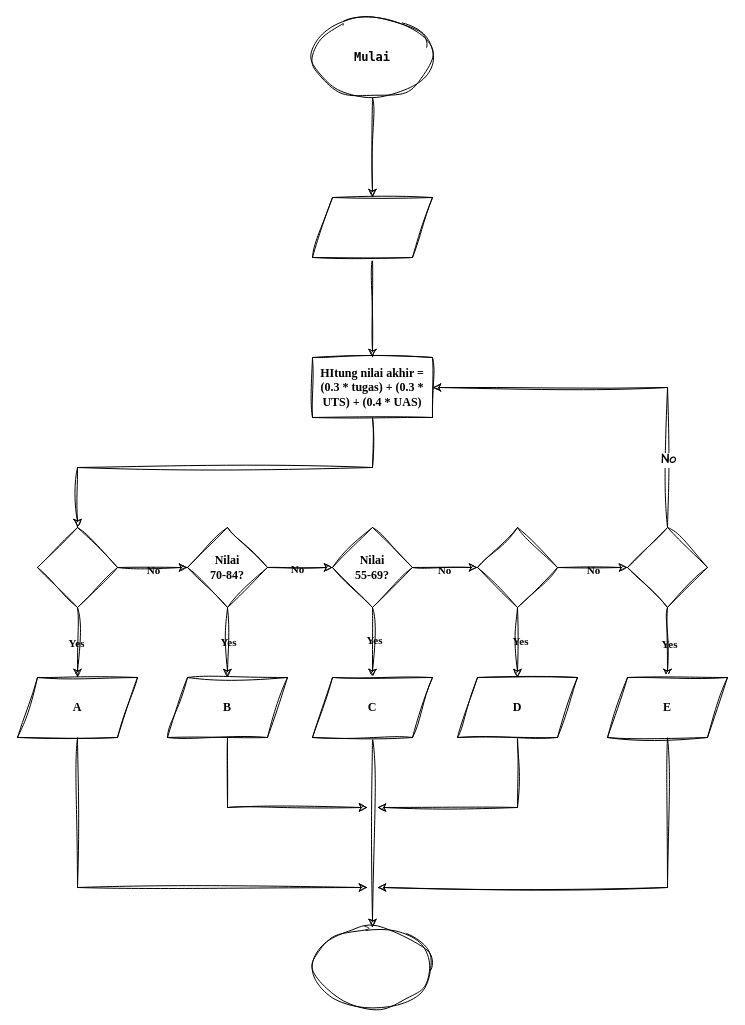
The diagram is 745 pixels wide and 1025 high, and some of its shapes have lost their labels. Each missing label, with the centre of its shape:
"Nilai 40-54?" belongs at point (517, 567).
"Nilai 85-100?" belongs at point (77, 567).
"Nilai <40?" belongs at point (667, 567).
"nilai Tugas, nilai UTS, nilai UAS" belongs at point (372, 227).
"Selesai" belongs at point (372, 967).
